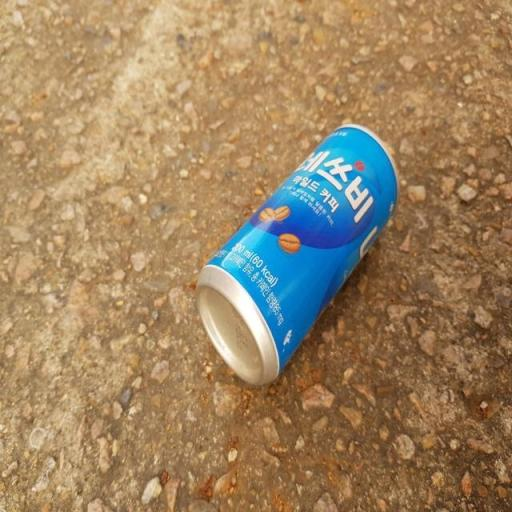metal: (158, 76, 423, 421)
